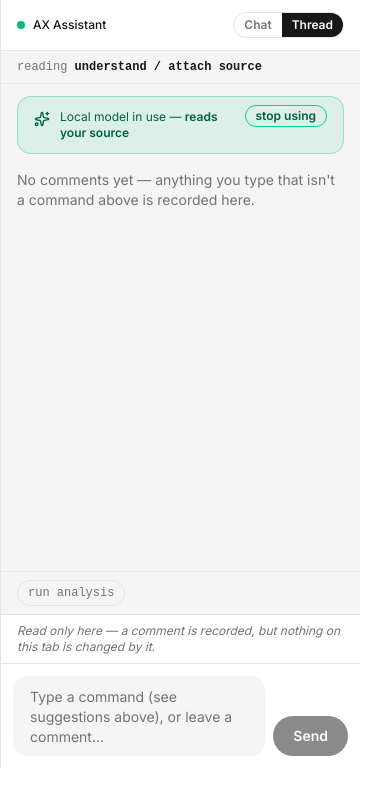
it: AxAssistantPanel › chat with the local model › says plainly that the conversation is not saved
Click the tab "chat".
click(258, 25)  # box [234,13,282,37]
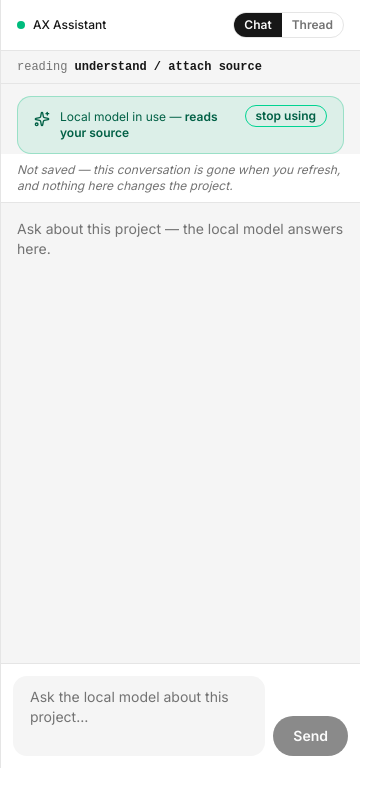
Check: the text "Not saved" is shown, box [17,162,340,193]
